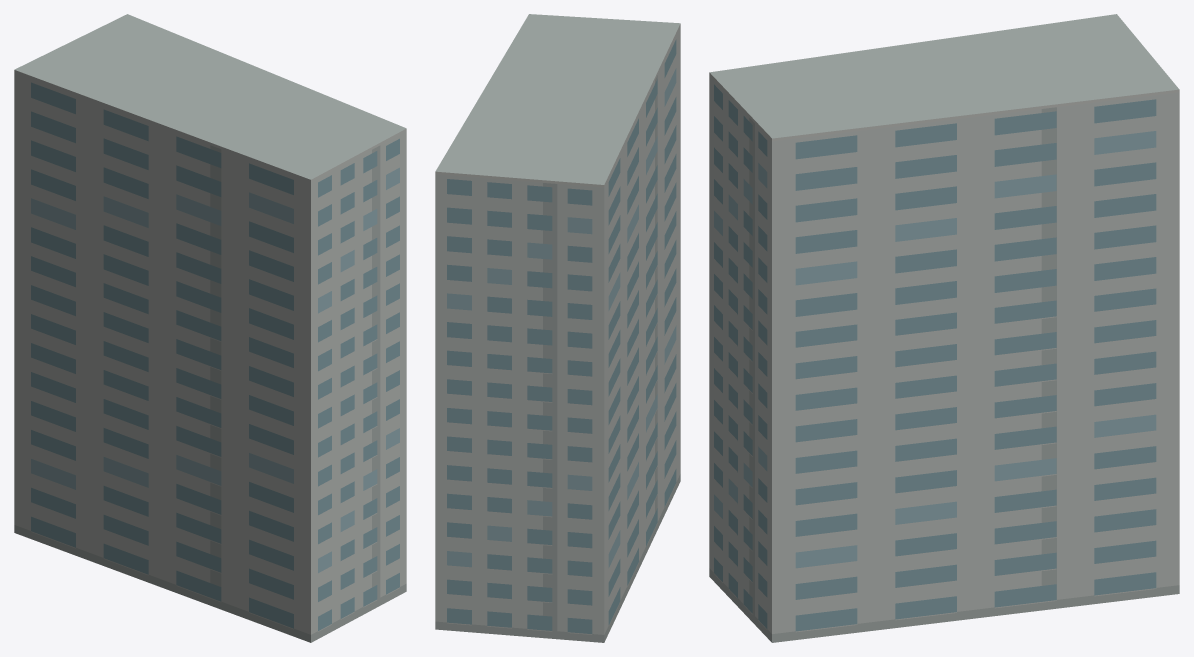
File: residential-b70d56d3-3984-4e04-bb9f-f8815aca579c.glb
The picture shows the model from 3 angles, left to right: view 1: azimuth 30°, elevation 25°; view 2: azimuth 150°, elevation 25°; view 3: azimuth 270°, elevation 25°; orthographic projection. The views are drawn at different scales.
Parts seen in each view (by area): view 1: residential-b70d56d3-3984-4e04-bb9f-f8815aca579c.tmp; view 2: residential-b70d56d3-3984-4e04-bb9f-f8815aca579c.tmp; view 3: residential-b70d56d3-3984-4e04-bb9f-f8815aca579c.tmp.
Part boxes in pixels (box(x1,y1,x2,y2)): residential-b70d56d3-3984-4e04-bb9f-f8815aca579c.tmp: box(14, 14, 406, 642); residential-b70d56d3-3984-4e04-bb9f-f8815aca579c.tmp: box(435, 14, 680, 642); residential-b70d56d3-3984-4e04-bb9f-f8815aca579c.tmp: box(709, 14, 1179, 642).
Bounding box in the file's own units: 22.25 × 42 × 35.49.
